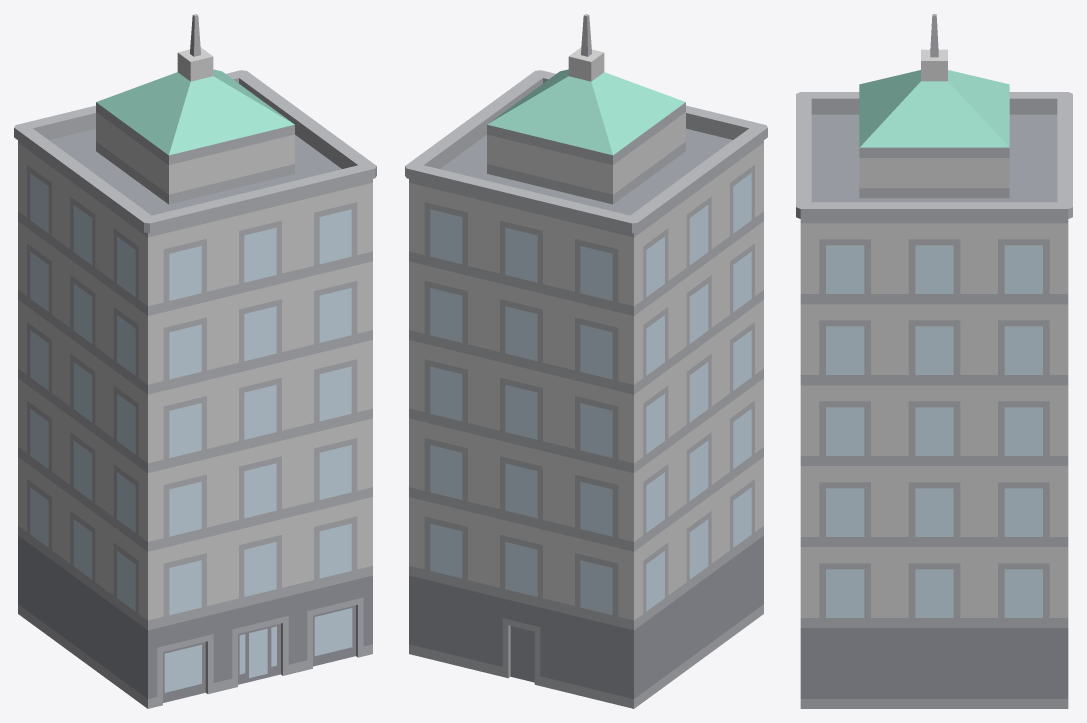
The model's file is skyscraperE.gltf.
3 renders of one model, left to right at view 1: azimuth 30°, elevation 25°; view 2: azimuth 150°, elevation 25°; view 3: azimuth 270°, elevation 25°, orthographic. The views are drawn at different scales.
Visible parts, largest first — view 1: skyscraperE; view 2: skyscraperE; view 3: skyscraperE.
Part boxes in pixels (box(x1,y1,x2,y2)): skyscraperE: box(14, 14, 376, 708); skyscraperE: box(405, 14, 767, 708); skyscraperE: box(796, 14, 1072, 708).
Size of the model in its own units: 1.24 by 3.15 by 1.24.
